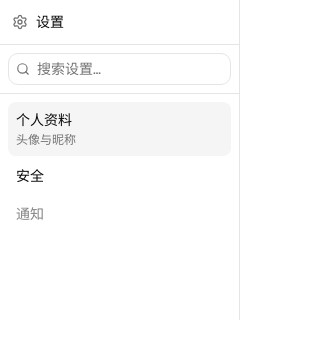
Test: SettingsLayout › shows empty filter message
This screenshot has width=320, height=337.
Type "zzz-no-match" into the field with placeholder "搜索设置…".
click(120, 69); type("zzz-no-match")  # box [8,53,231,85]
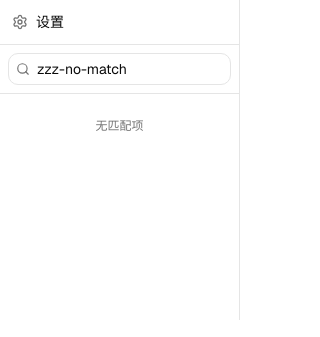
Now the text "无匹配项" is shown, box [96,118,144,134]
